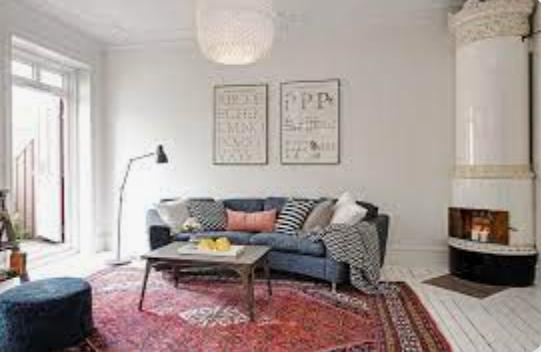carpet: (65, 261, 450, 352)
